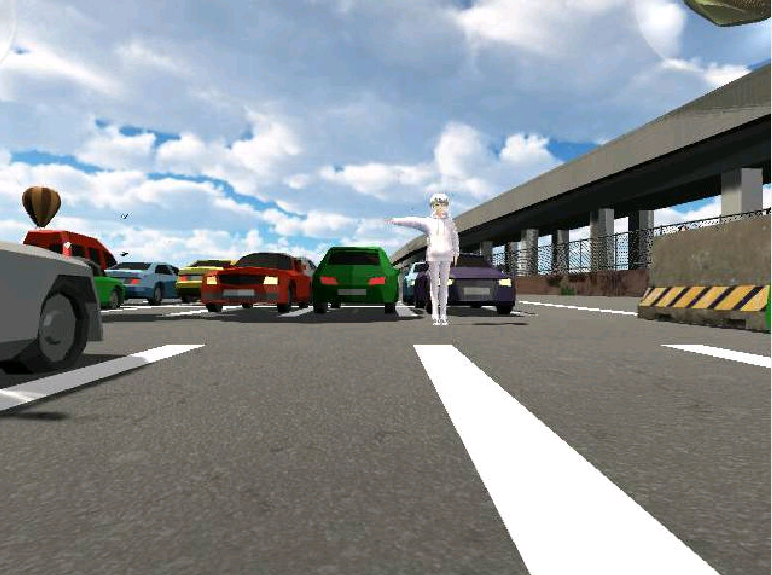singleP_left: (384, 186, 467, 330)
